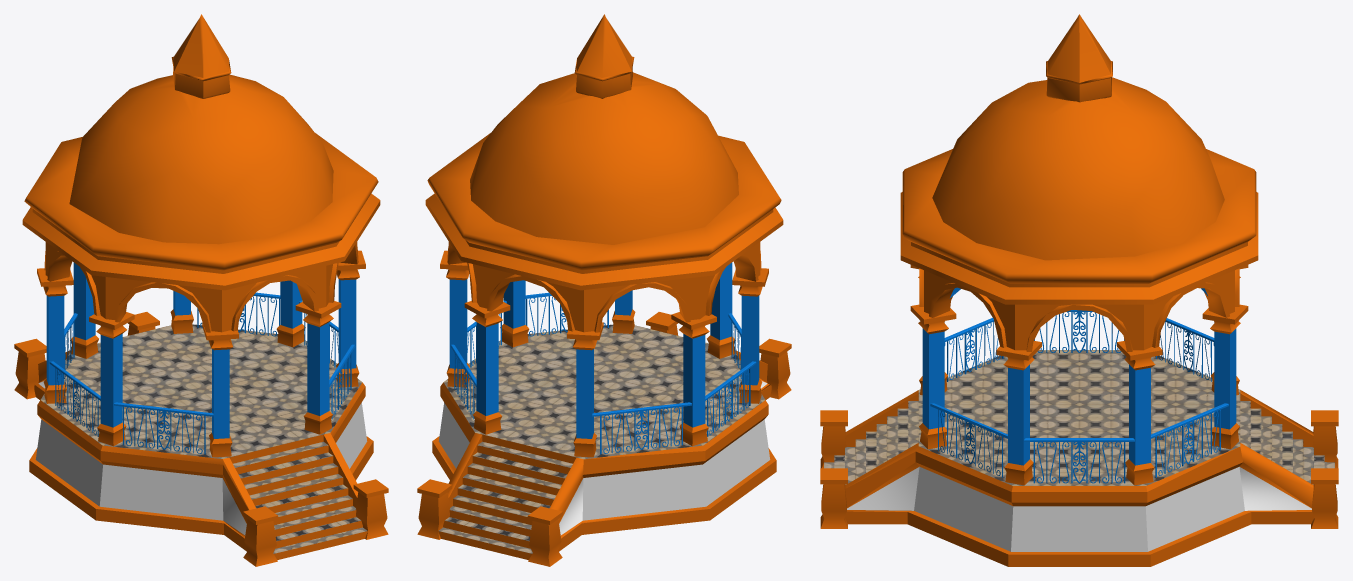
Rendered from gazebo_LOD1.fbx.
The picture shows the model from 3 angles, left to right: view 1: azimuth 30°, elevation 25°; view 2: azimuth 150°, elevation 25°; view 3: azimuth 270°, elevation 25°; orthographic projection. The views are drawn at different scales.
Visible parts, largest first — view 1: gazebo_LOD1; view 2: gazebo_LOD1; view 3: gazebo_LOD1.
Part boxes in pixels (left/top/right/bottom): gazebo_LOD1: left=14, top=14, right=388, bottom=566; gazebo_LOD1: left=417, top=14, right=791, bottom=566; gazebo_LOD1: left=820, top=14, right=1338, bottom=566.
Bounding box in the file's own units: 849 × 1259 × 1230.
